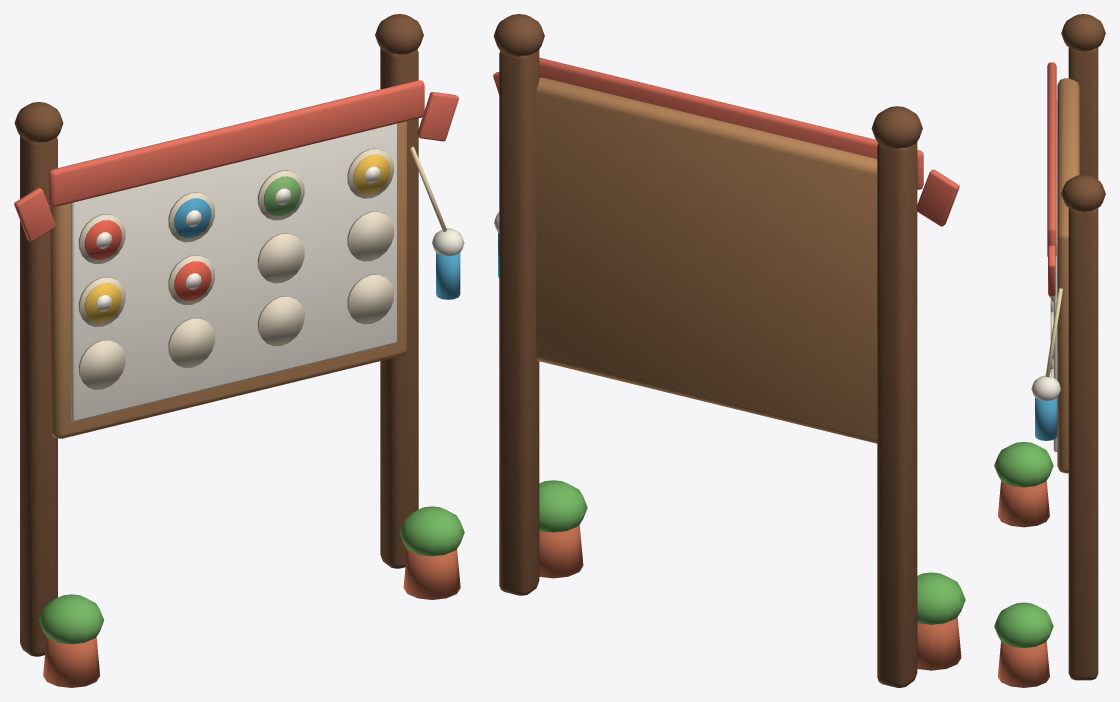
The model's file is stamp-board.glb.
3 renders of one model, left to right at view 1: azimuth 30°, elevation 25°; view 2: azimuth 150°, elevation 25°; view 3: azimuth 270°, elevation 25°, orthographic. The views are drawn at different scales.
Parts seen in each view (by area): view 1: board, stamps, hang; view 2: board, hang; view 3: board, hang, stamps.
Boxes of the visible parts, <box> form: board: <box>14,14,458,656</box>; stamps: <box>78,148,393,389</box>; hang: <box>39,146,464,687</box>; board: <box>493,14,959,687</box>; hang: <box>494,212,965,670</box>; board: <box>1047,14,1105,680</box>; hang: <box>994,288,1062,687</box>; stamps: <box>1049,296,1053,377</box>.
Bounding box in the file's own units: 1.26 × 1.48 × 0.3.
